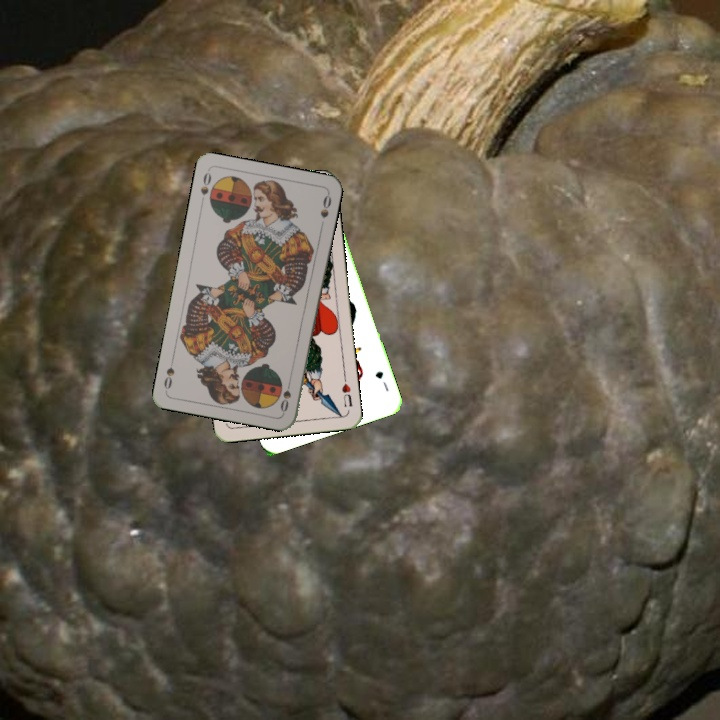GU: (371, 367, 391, 394)
HU: (338, 372, 355, 410)
SO: (276, 374, 294, 415), (196, 168, 214, 198)
